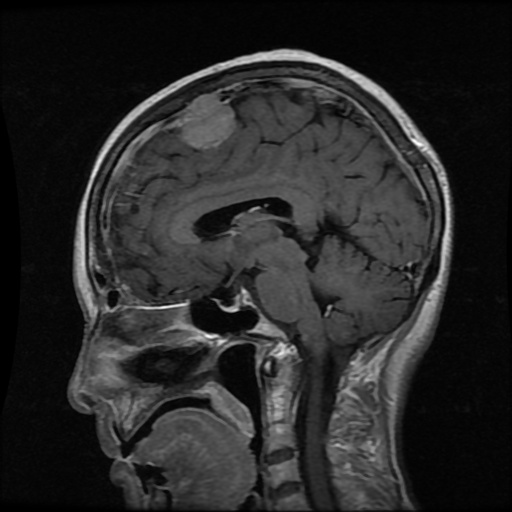meningioma: (181, 94, 237, 148)
